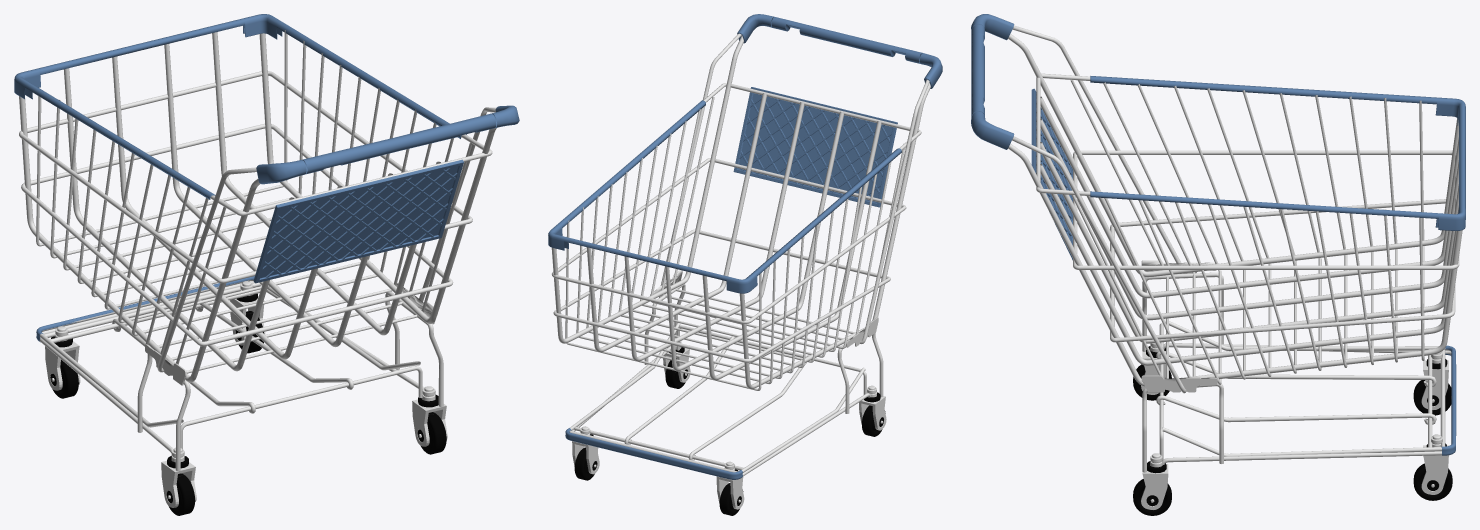
The model's file is shoping cart.fbx.
3 renders of one model, left to right at view 1: azimuth 30°, elevation 25°; view 2: azimuth 150°, elevation 25°; view 3: azimuth 270°, elevation 25°, orthographic. The views are drawn at different scales.
Visible parts, largest first — view 1: SHOPPING CART; view 2: SHOPPING CART; view 3: SHOPPING CART.
Part boxes in pixels (<box>): SHOPPING CART: <box>14,14,519,515</box>; SHOPPING CART: <box>548,14,942,515</box>; SHOPPING CART: <box>971,14,1465,515</box>.
Bounding box in the file's own units: 209 × 301 × 347.
